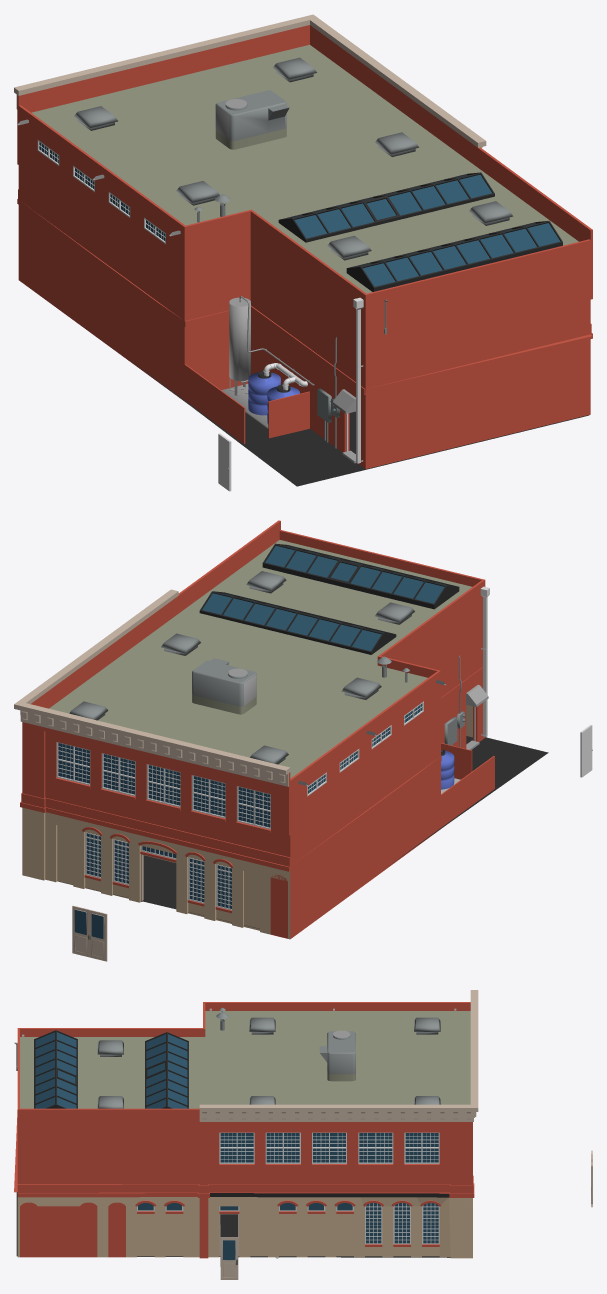
The model's file is store.fbx.
3 renders of one model, top to bottom at view 1: azimuth 30°, elevation 25°; view 2: azimuth 150°, elevation 25°; view 3: azimuth 270°, elevation 25°, orthographic. The views are drawn at different scales.
Parts seen in each view (by area): view 1: Fountain Drink Service; view 2: Fountain Drink Service; view 3: Fountain Drink Service.
Part boxes in pixels (x1=…): Fountain Drink Service: x1=14, y1=14, x2=592, y2=491; Fountain Drink Service: x1=14, y1=520, x2=592, y2=961; Fountain Drink Service: x1=14, y1=990, x2=592, y2=1279.
Bounding box in the file's own units: 1745 × 863 × 2629.
